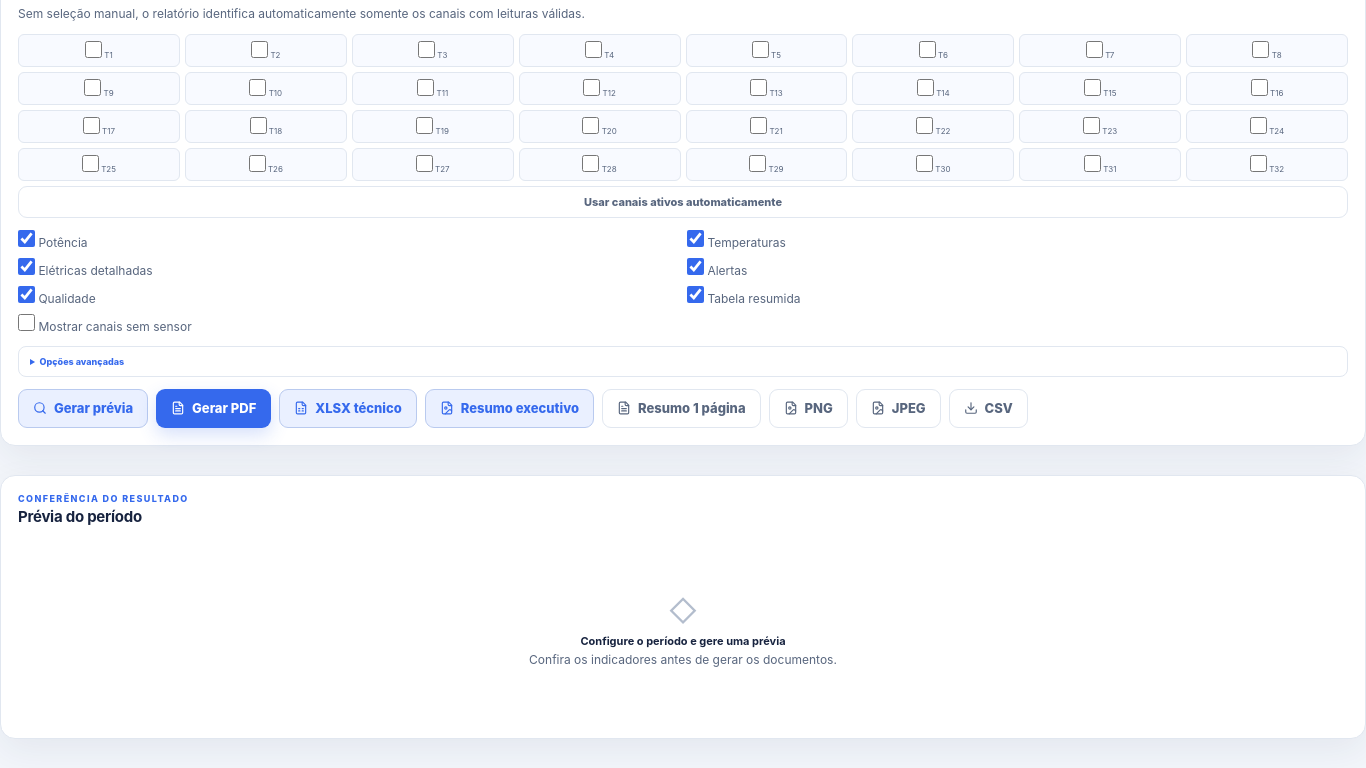
Scenario: gera prévia por período e mantém abas de sessão e histórico
(page scrolled)
Click the button "Gerar prévia": (83, 408) [18,389,148,428]
(page scrolled)
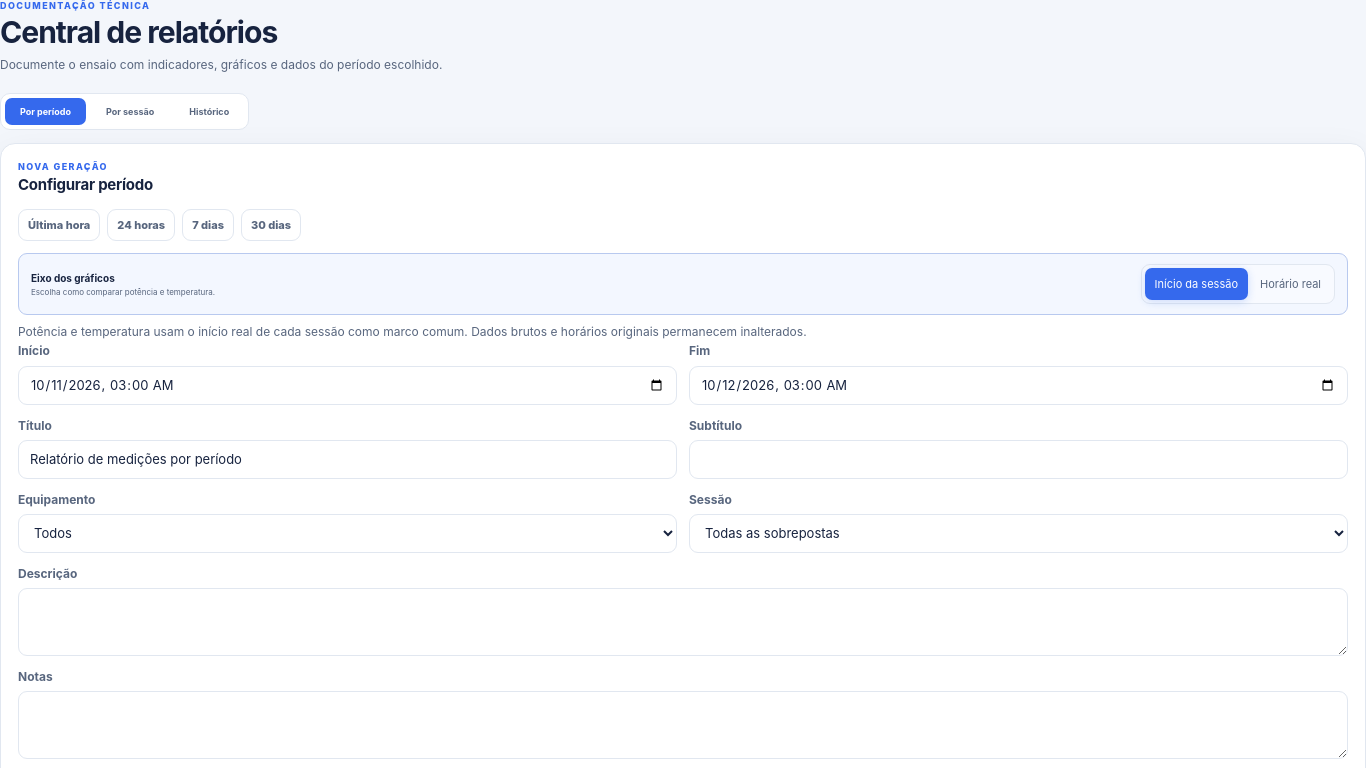
Click the button "Por sessão": (130, 112) [91,98,169,125]
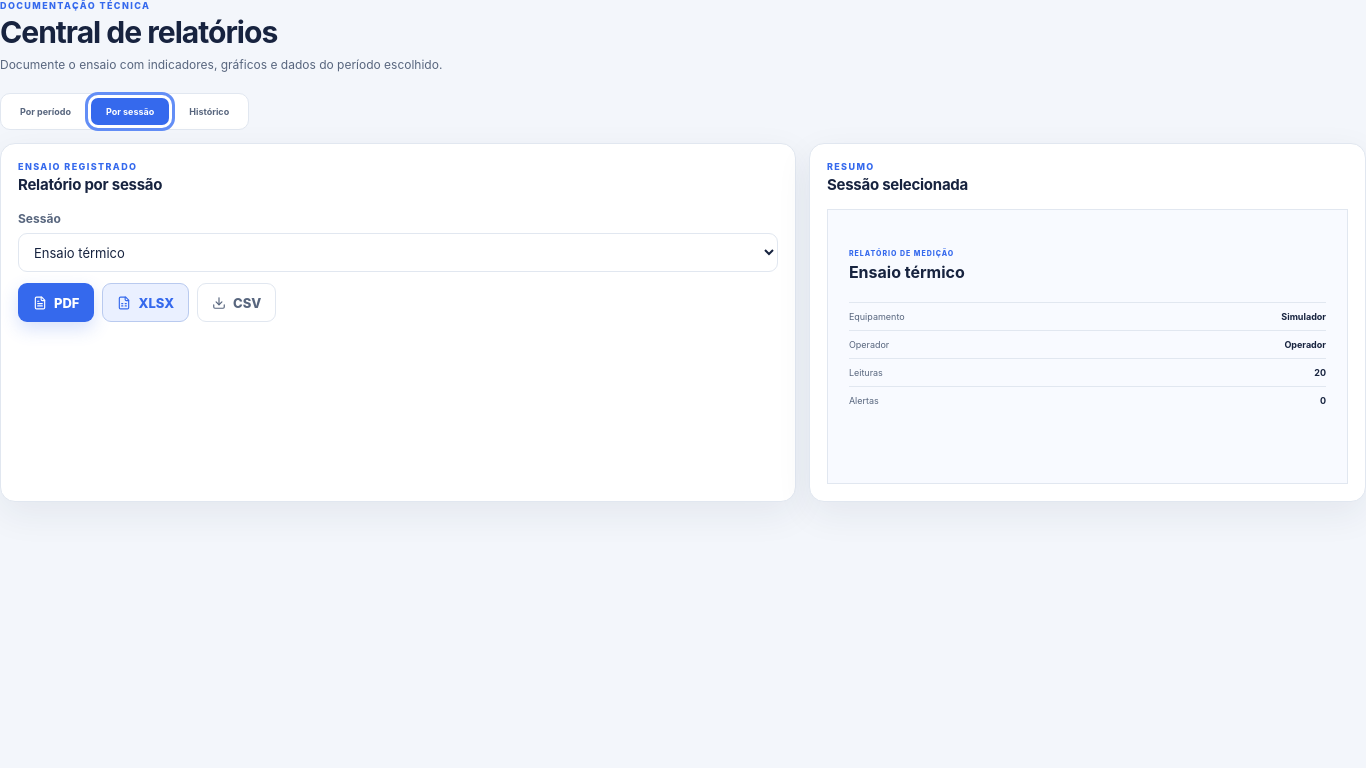
Expected: the text "ENSAIO REGISTRADO" is shown, [18,161,138,172]
Click the button "Histórico": (209, 112) [174,98,244,125]
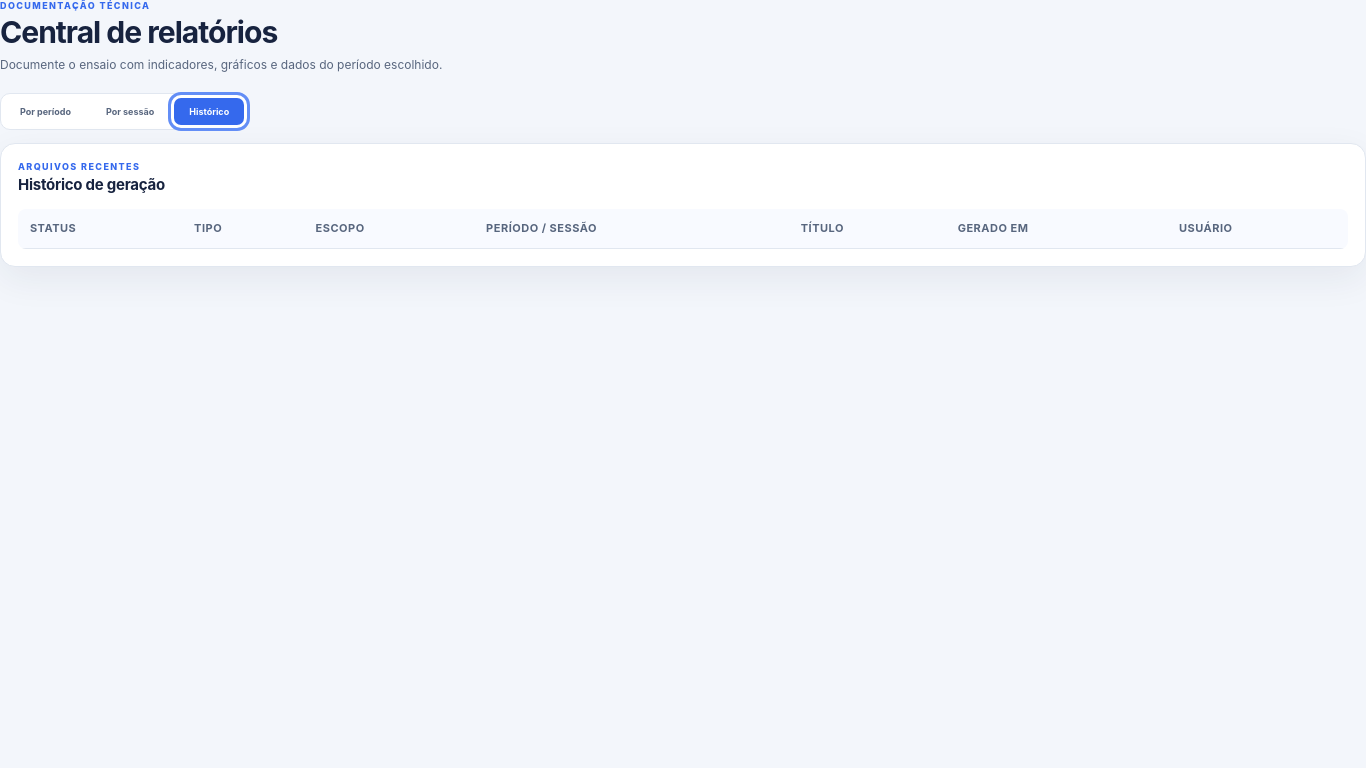
Expected: the text "ARQUIVOS RECENTES" is shown, [18,161,140,172]
